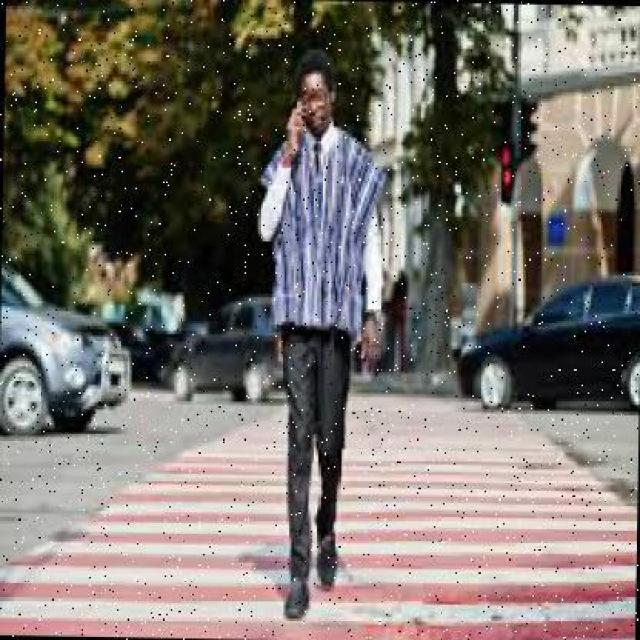Person: (256, 54, 386, 629)
